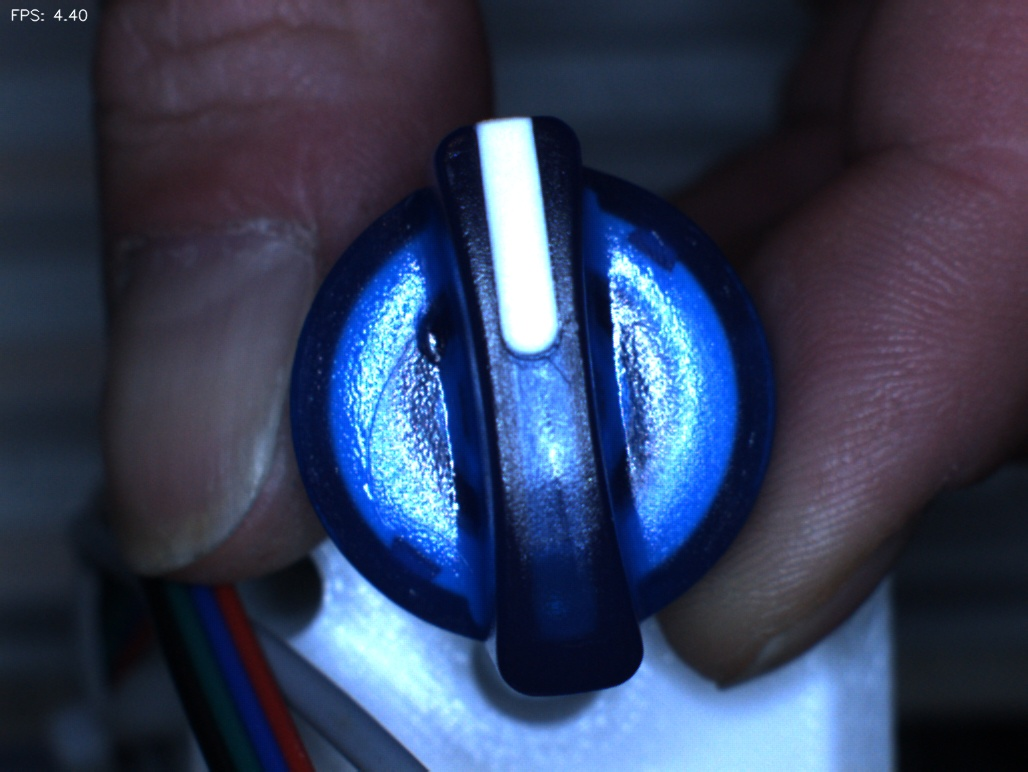Choc: (388, 296, 471, 379)
